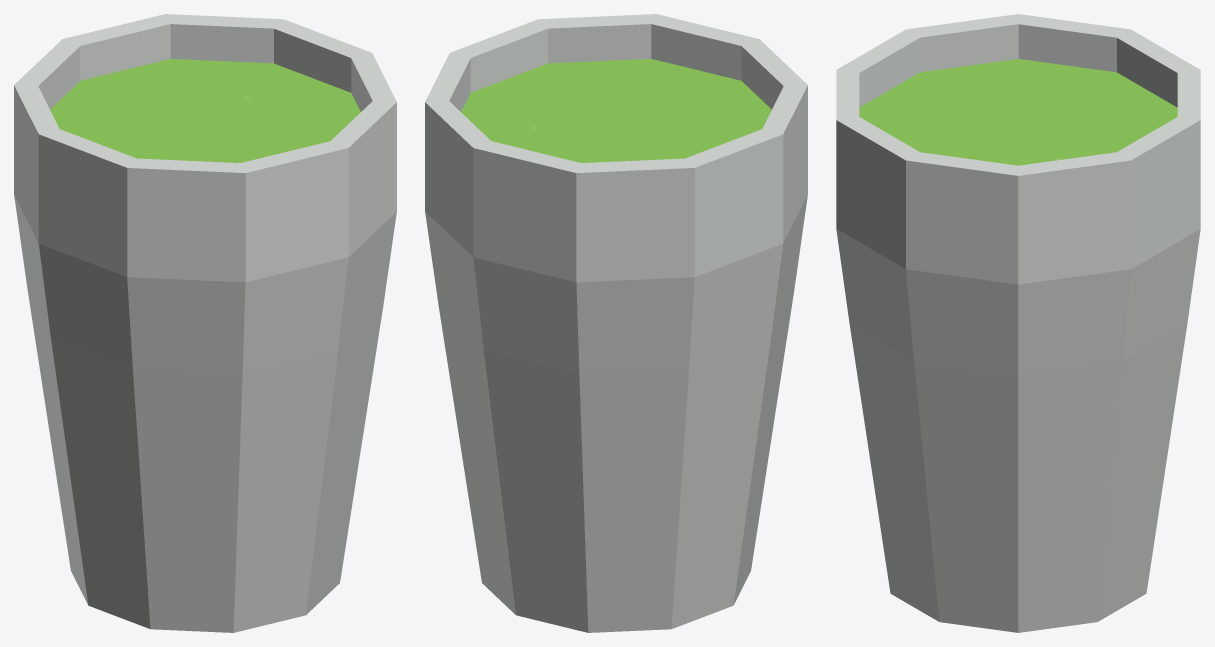
The model's file is Lime_soda_cup.glb.
3 views of the same model, side by side, from view 1: azimuth 30°, elevation 25°; view 2: azimuth 150°, elevation 25°; view 3: azimuth 270°, elevation 25° (orthographic).
Visible parts, largest first — view 1: Cup; view 2: Cup; view 3: Cup.
Part boxes in pixels (x1=…): Cup: x1=14, y1=14, x2=396, y2=632; Cup: x1=425, y1=14, x2=807, y2=632; Cup: x1=836, y1=14, x2=1200, y2=632.
Size of the model in its own units: 0.4744 by 0.6572 by 0.4511.
1 material, 1 textured.
